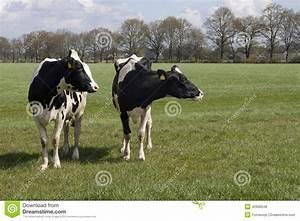cow: (111, 53, 203, 161), (25, 48, 99, 170)
